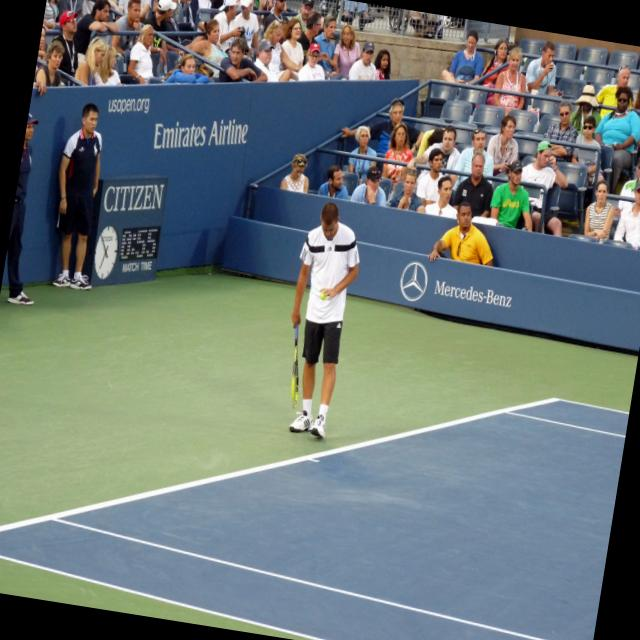Tennis Ball: (320, 290, 329, 300)
